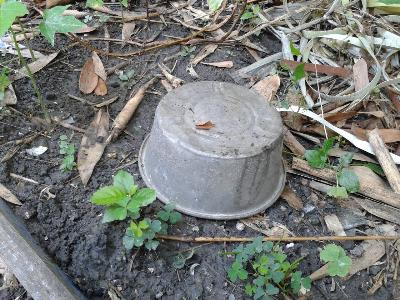bowl: (136, 79, 290, 221)
